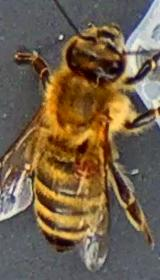varroa_mite: (69, 146, 102, 184)
